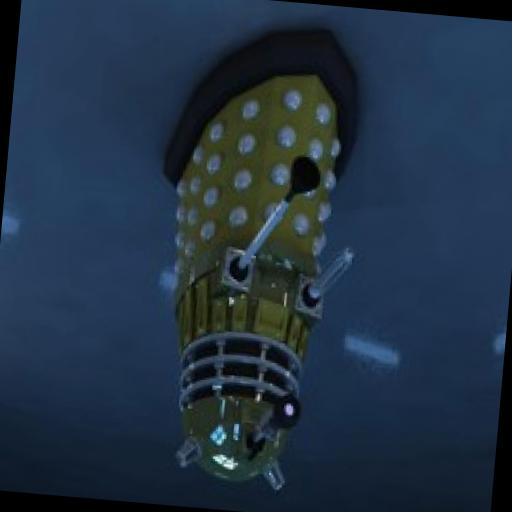dalek: (134, 6, 379, 498)
